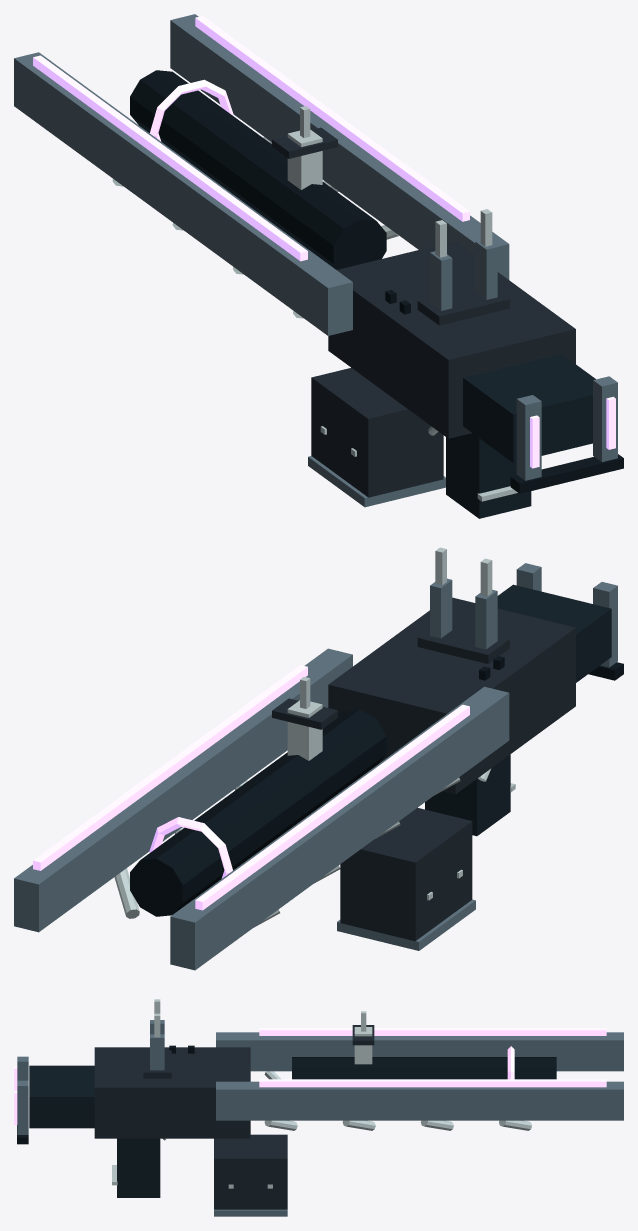
Rendered from world-6.glb.
3 views of the same model, one above another, from view 1: azimuth 30°, elevation 25°; view 2: azimuth 150°, elevation 25°; view 3: azimuth 270°, elevation 25° (orthographic). The views are drawn at different scales.
Parts seen in each view (by area): view 1: body-light, body-dark, shock-emitter-cavity, body-rubber, feed-dark, body-glow, body-trim, body-cavity, feed-light; view 2: body-light, body-dark, shock-emitter-cavity, feed-dark, body-glow, body-rubber, body-trim, feed-light, body-cavity; view 3: body-light, body-dark, body-rubber, body-glow, shock-emitter-cavity, feed-dark, body-trim, feed-light.
Part boxes in pixels (x1,y1,x2,y2): body-light: [14, 14, 617, 480]; body-dark: [272, 127, 575, 438]; shock-emitter-cavity: [130, 70, 386, 269]; body-rubber: [446, 354, 595, 518]; feed-dark: [311, 367, 443, 497]; body-glow: [33, 16, 615, 468]; body-trim: [112, 106, 517, 501]; body-cavity: [385, 290, 623, 493]; feed-light: [308, 456, 445, 507]; body-light: [14, 563, 617, 970]; body-dark: [272, 597, 575, 794]; shock-emitter-cavity: [130, 709, 386, 916]; feed-dark: [340, 807, 472, 941]; body-glow: [33, 665, 469, 910]; body-rubber: [425, 584, 611, 836]; body-trim: [114, 547, 515, 927]; feed-light: [337, 899, 475, 950]; body-cavity: [479, 656, 623, 680]; body-light: [17, 1020, 623, 1134]; body-dark: [94, 1025, 374, 1138]; body-rubber: [29, 1065, 160, 1197]; body-glow: [14, 1028, 606, 1124]; shock-emitter-cavity: [292, 1057, 556, 1079]; feed-dark: [214, 1134, 287, 1209]; body-trim: [112, 999, 531, 1185]; feed-light: [214, 1209, 287, 1216].
Bounding box in the file's own units: 0.313 × 0.5095 × 1.41.
